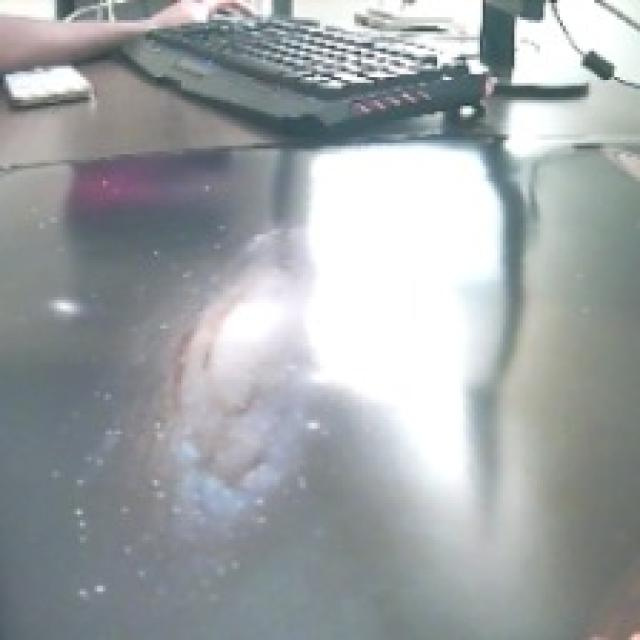Galaxy: (77, 224, 320, 583)
